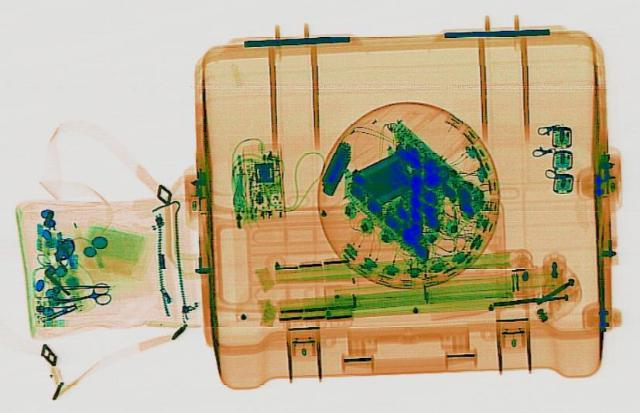Scissors: (46, 279, 116, 311)
